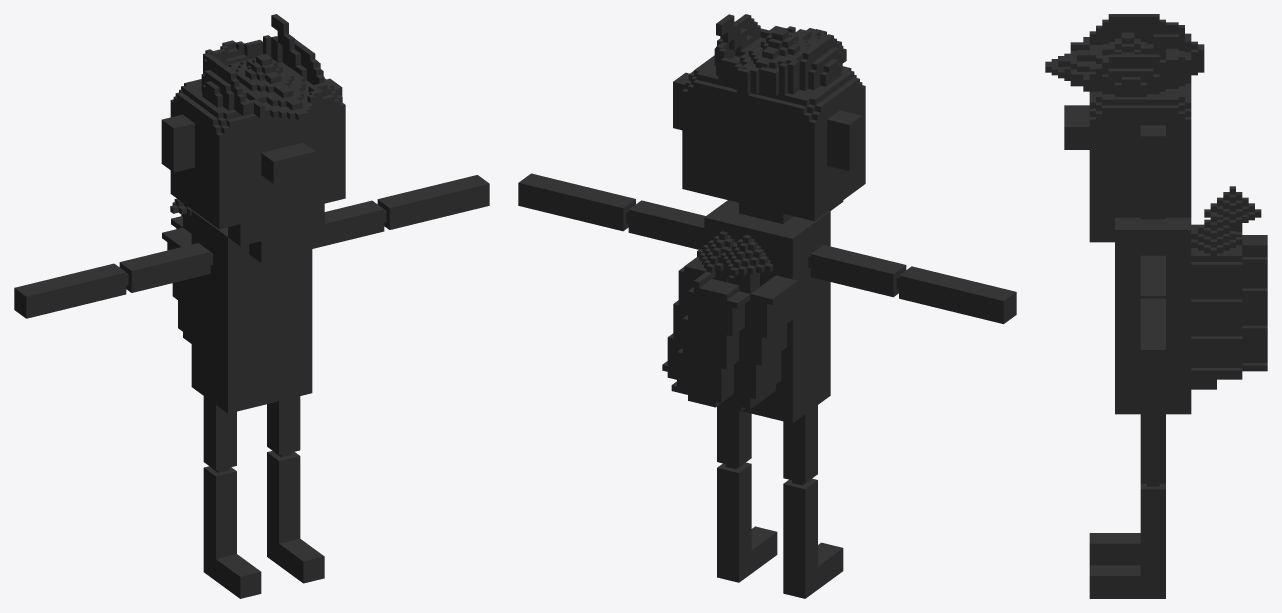
Rendered from Archer.obj.
3 renders of one model, left to right at view 1: azimuth 30°, elevation 25°; view 2: azimuth 150°, elevation 25°; view 3: azimuth 270°, elevation 25°, orthographic. The views are drawn at different scales.
Bounding box in the file's own units: 8.8 × 9.7 × 3.5.
